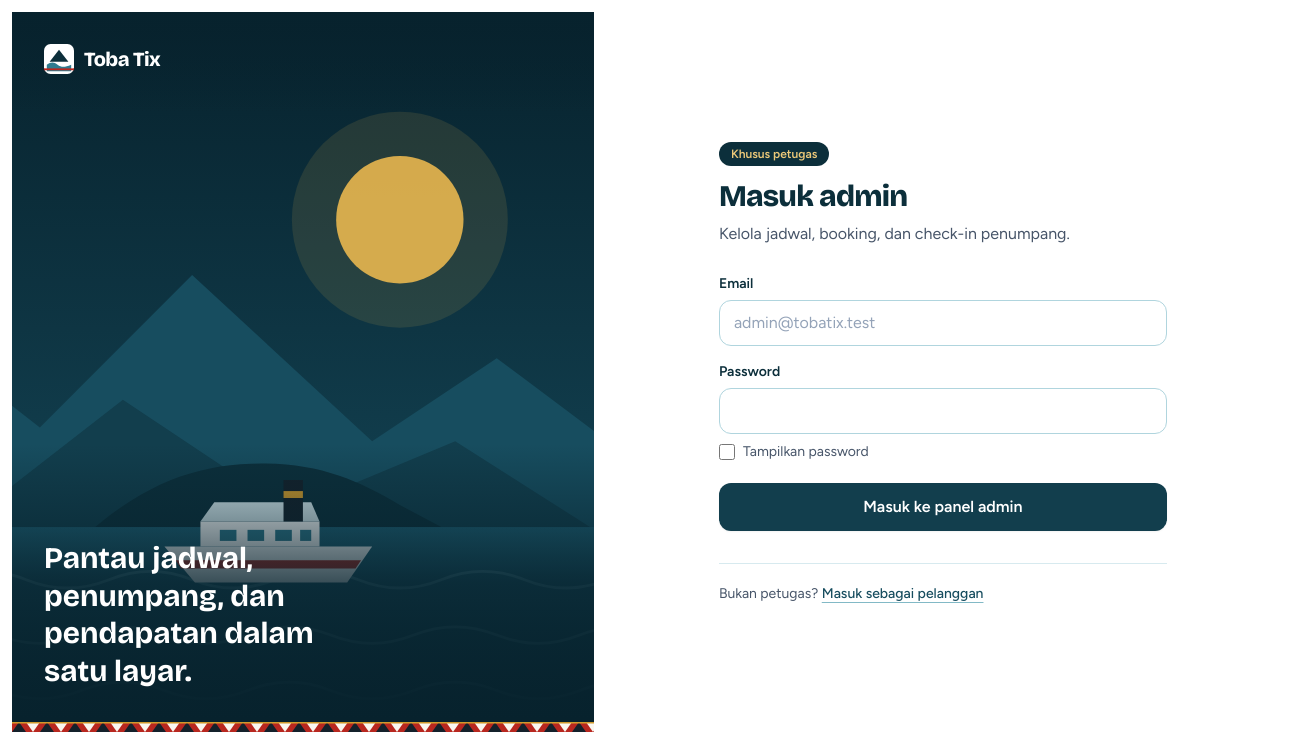
Test case: AdminLoginPage › validasi sisi klien
Step 1. Type "x" into the field with id "username" → (943, 322), box [719,300,1167,346]
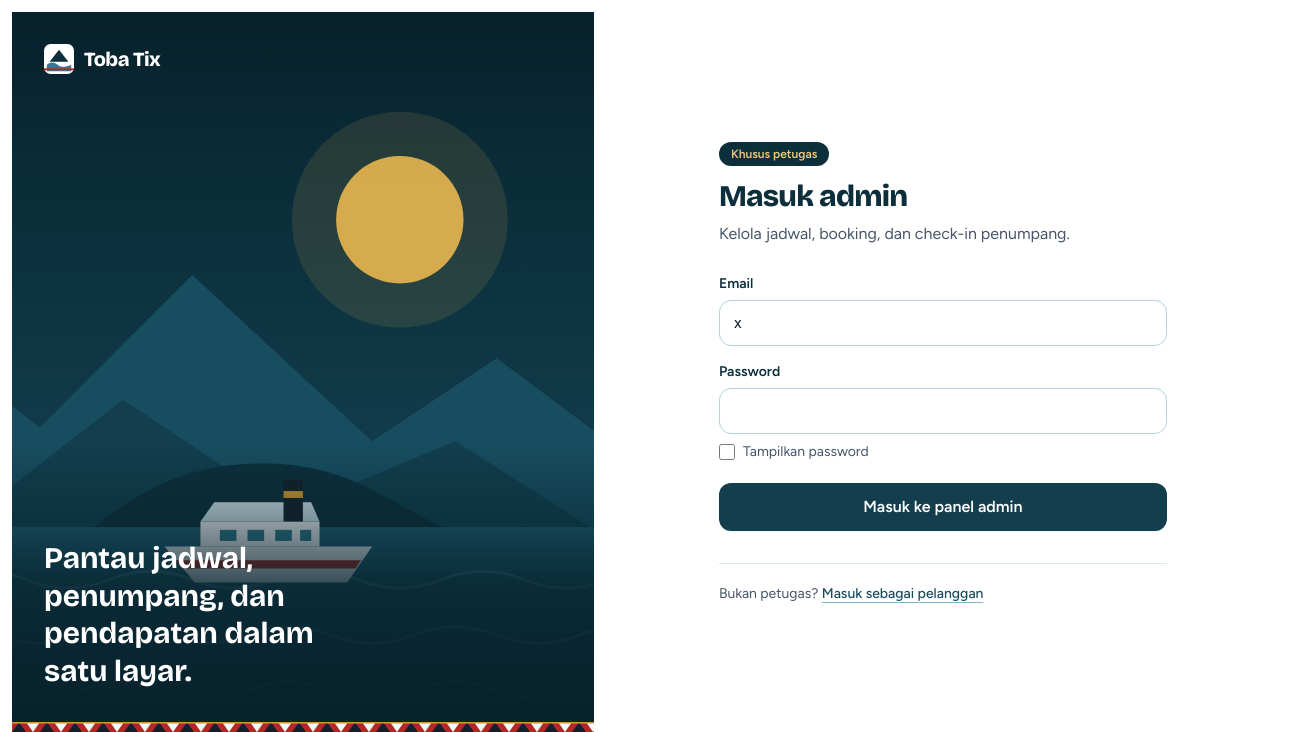
Step 2. Submit the form, box [719,274,1167,530]
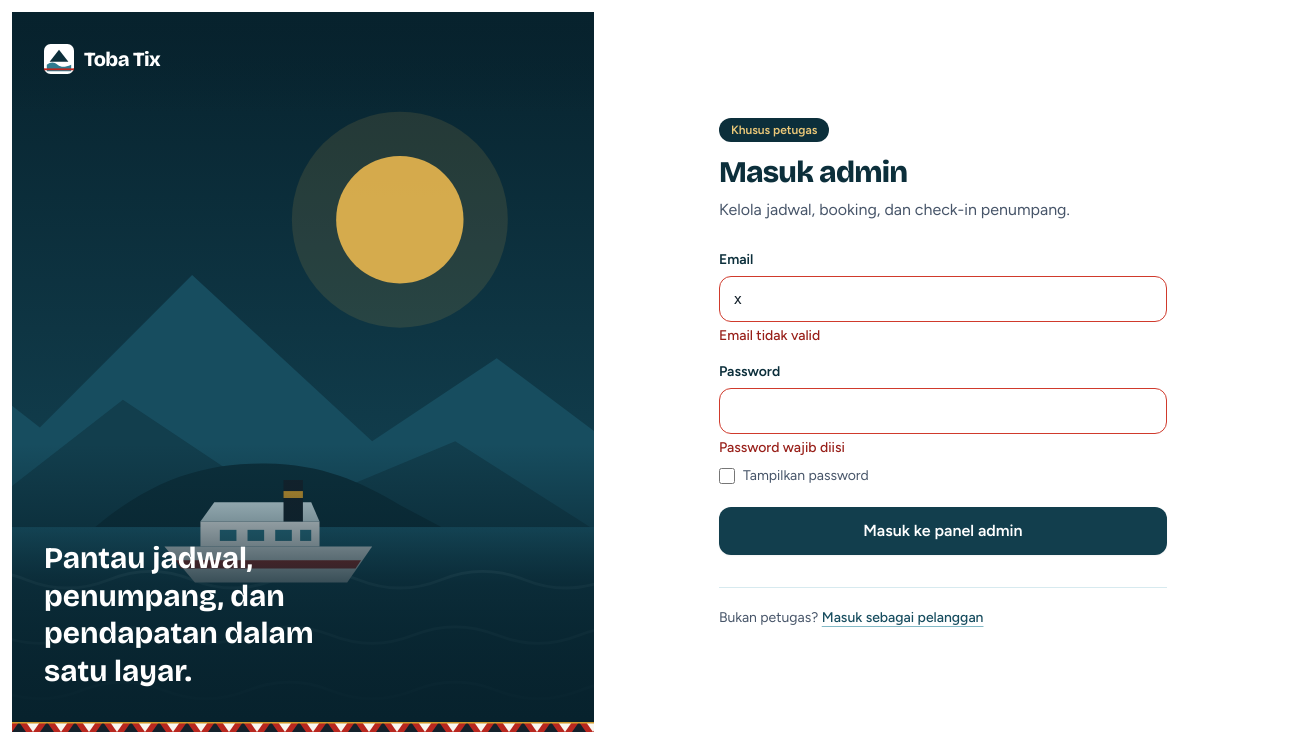
expect the text "Email tidak valid" is shown: met, box [719,326,820,344]
expect the text "Password wajib diisi" is shown: met, box [719,438,845,456]
